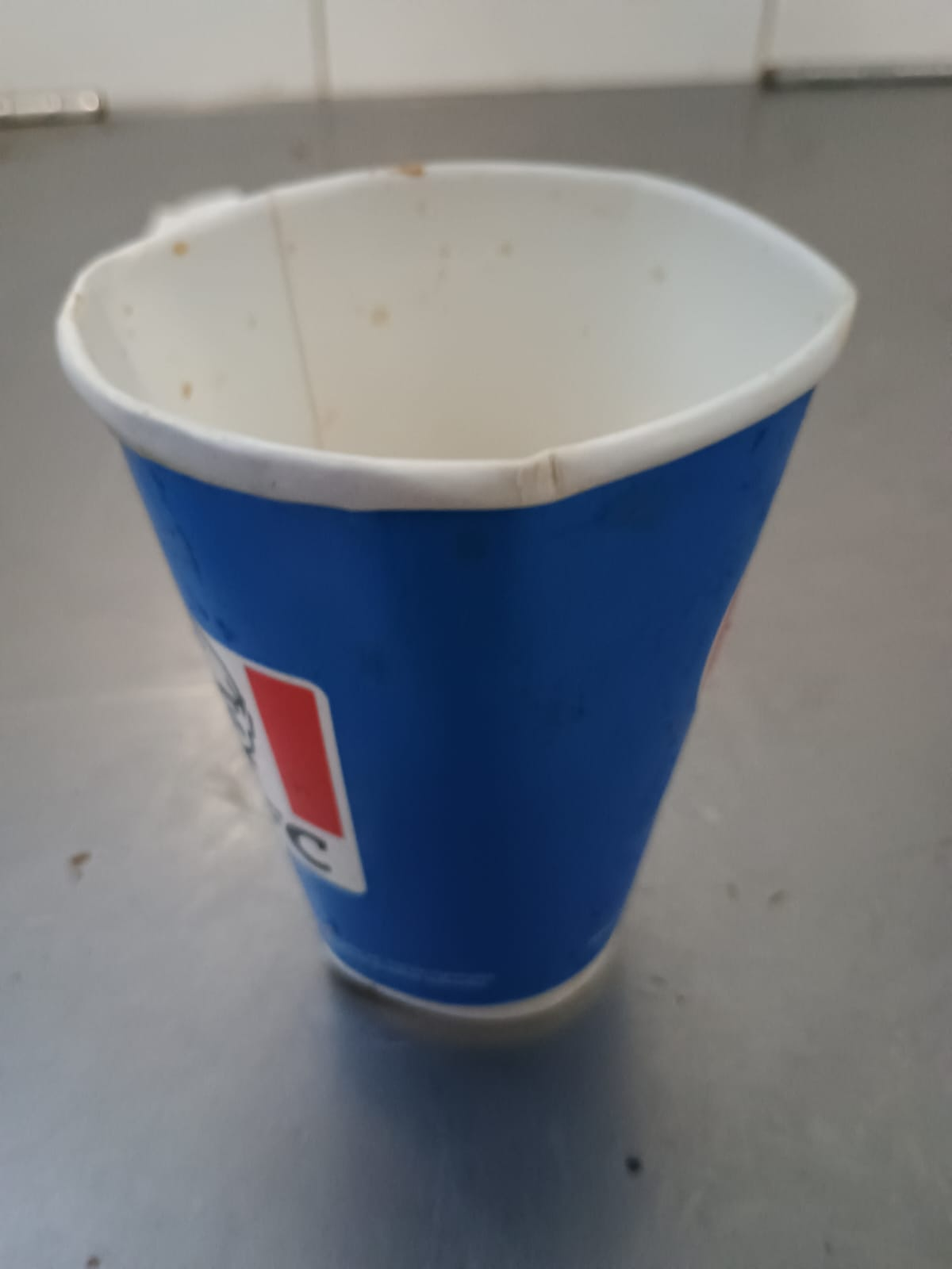Carton: (44, 161, 855, 1021)
